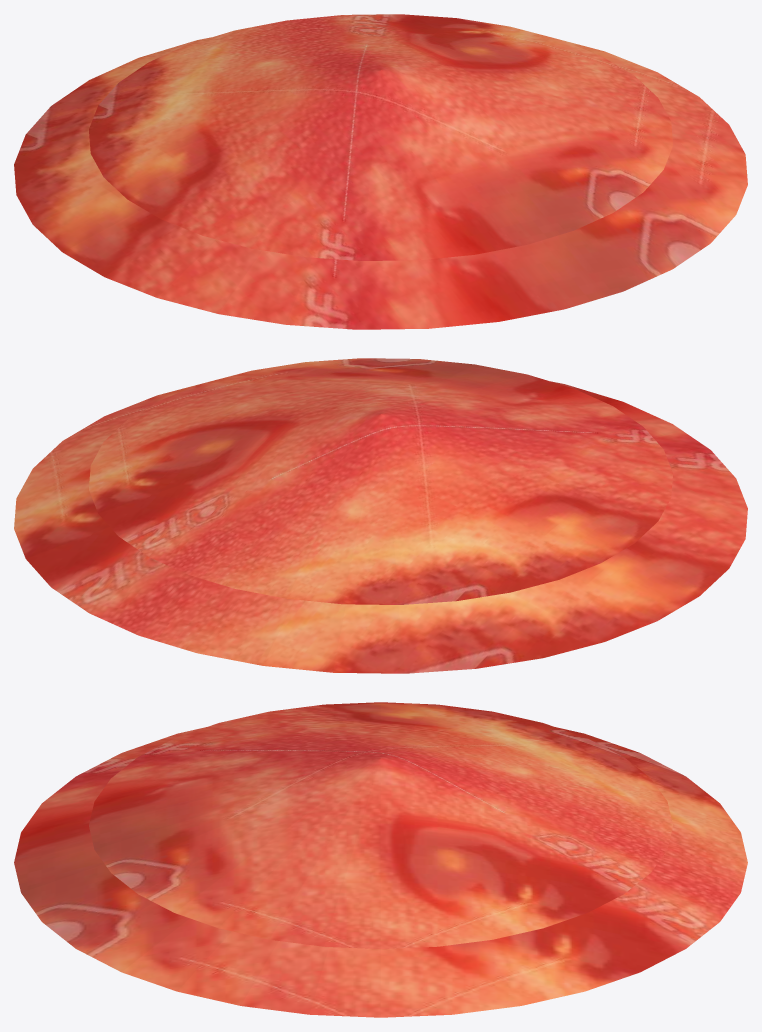
File: tomate_cortada.obj
The picture shows the model from 3 angles, top to bottom: view 1: azimuth 30°, elevation 25°; view 2: azimuth 150°, elevation 25°; view 3: azimuth 270°, elevation 25°; orthographic projection.
Bounding box in the file's own units: 1.27 × 0.1987 × 1.27.
2 materials, 2 textured.
